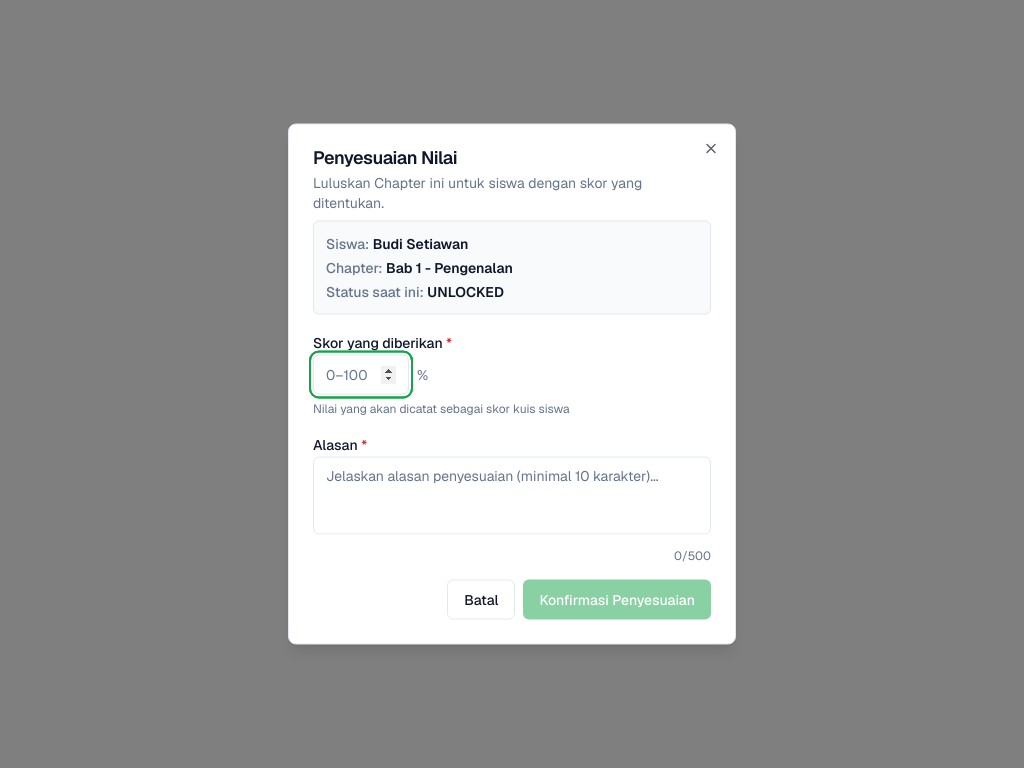
it: OverrideForm › enables confirm button when form is valid (score + reason)
Step 1. Type "75" into the number field with placeholder "0–100" → [361, 374], box x1=313 y1=354 x2=409 y2=394
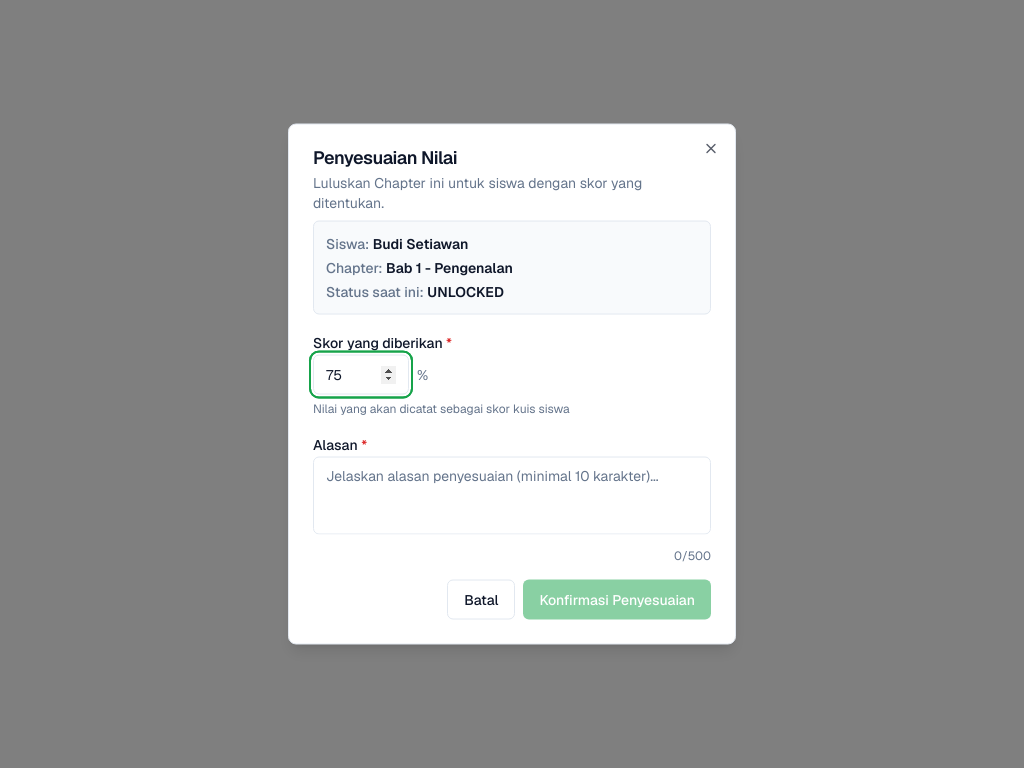
Step 2. Type "Alasan penyesuaian yang cukup panjang" into the text box labelled "Alasan *" → [512, 496], box x1=313 y1=456 x2=711 y2=534
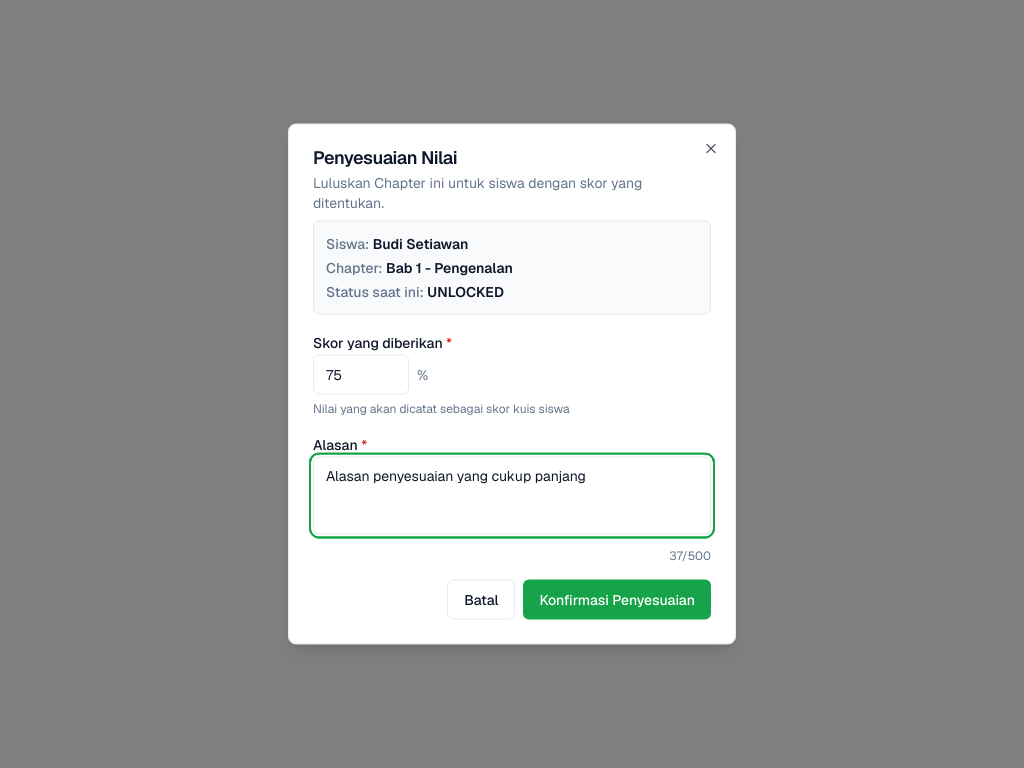
Expected: the button "Konfirmasi Penyesuaian" is enabled, x1=523 y1=580 x2=711 y2=620
